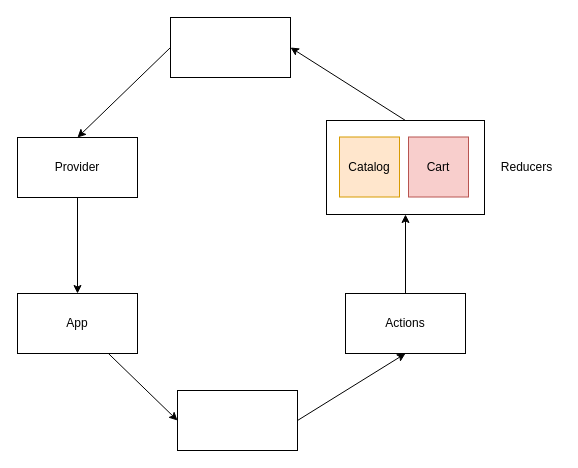
This 578x468 diagram has some shape labels left out. The shapes that lost their labels are listed below. From the top down, each one's centre as x and y in pixels, then its label:
(230,47): Store
(237,420): Components
